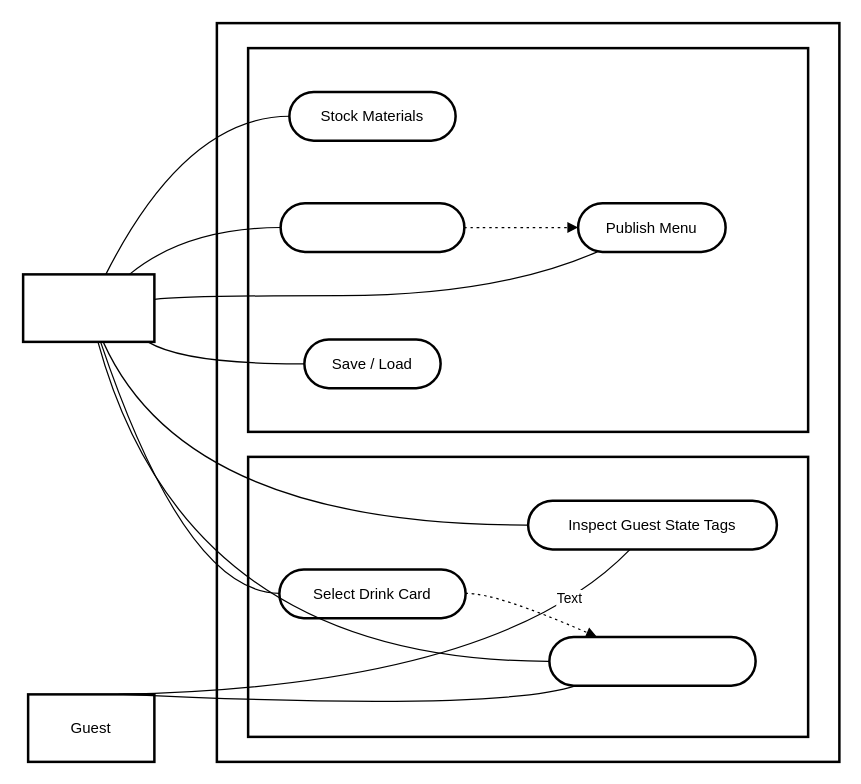
The diagram is 861 pixels wide and 784 high, and some of its shapes have lost their labels. Each missing label, with the centre of its shape:
"Player" belongs at (88,307).
"Research Recipes" belongs at (372,226).
"Serve & Settlement" belongs at (652,660).
